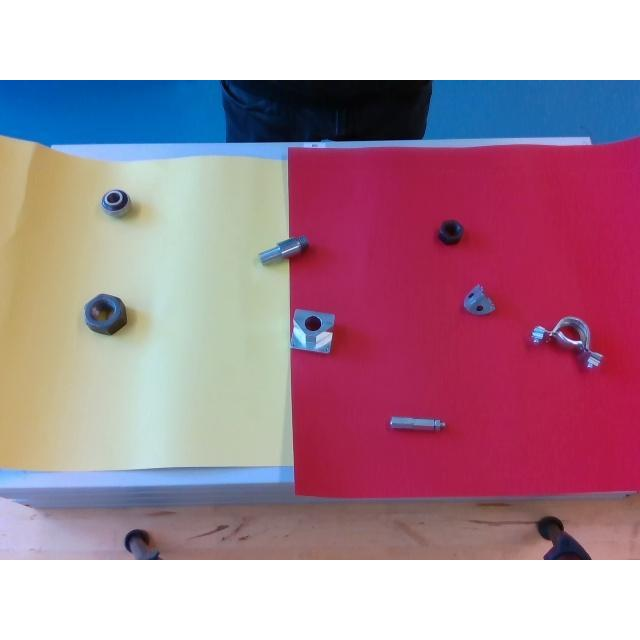Axis2: (258, 234, 308, 266)
Bearing2: (100, 188, 128, 216)
Housing: (530, 315, 602, 365)
M20: (438, 220, 462, 244)
M30: (84, 293, 128, 333)
